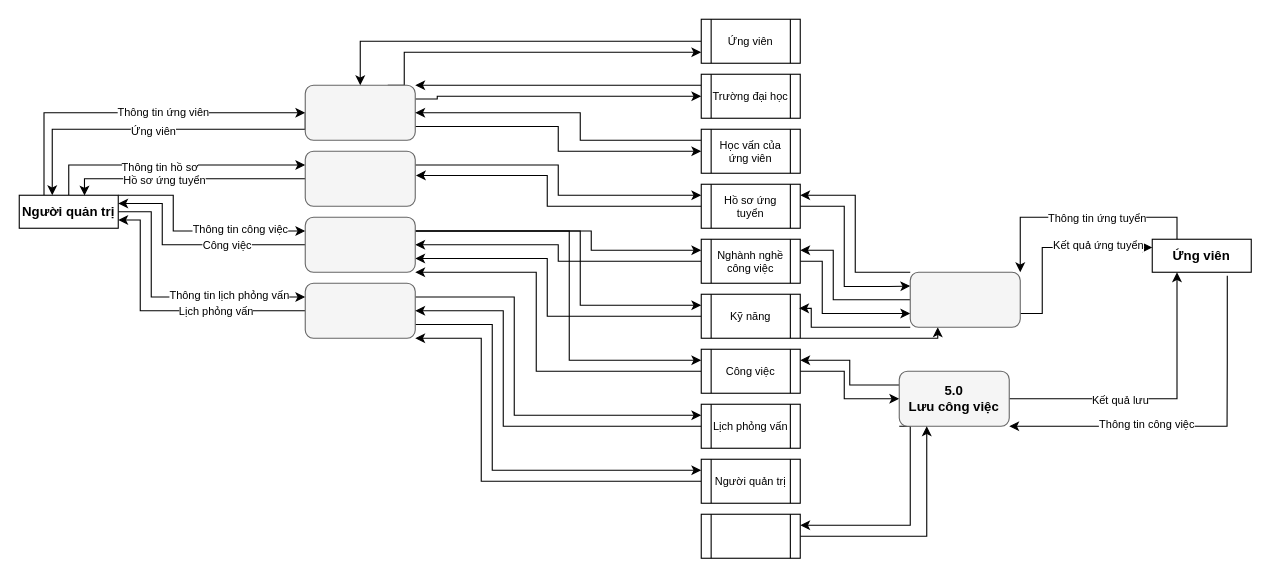
The diagram is 1271 pixels wide and 578 high, and some of its shapes have lost their labels. Here are the shapes that lost their labels. From the top down, the centre of each, then its label:
At pixel 359 112: "1.0 Quản lý ứng viên".
At pixel 359 178: "2.0 Quản lý hồ sơ ứng tuyển".
At pixel 359 244: "3.0 Quản lý công việc".
At pixel 359 310: "4.0 Quản lý lịch phỏng vấn".
At pixel 964 299: "6.0 Ứng tuyển".
At pixel 750 535: "Công việc đã lưu".
